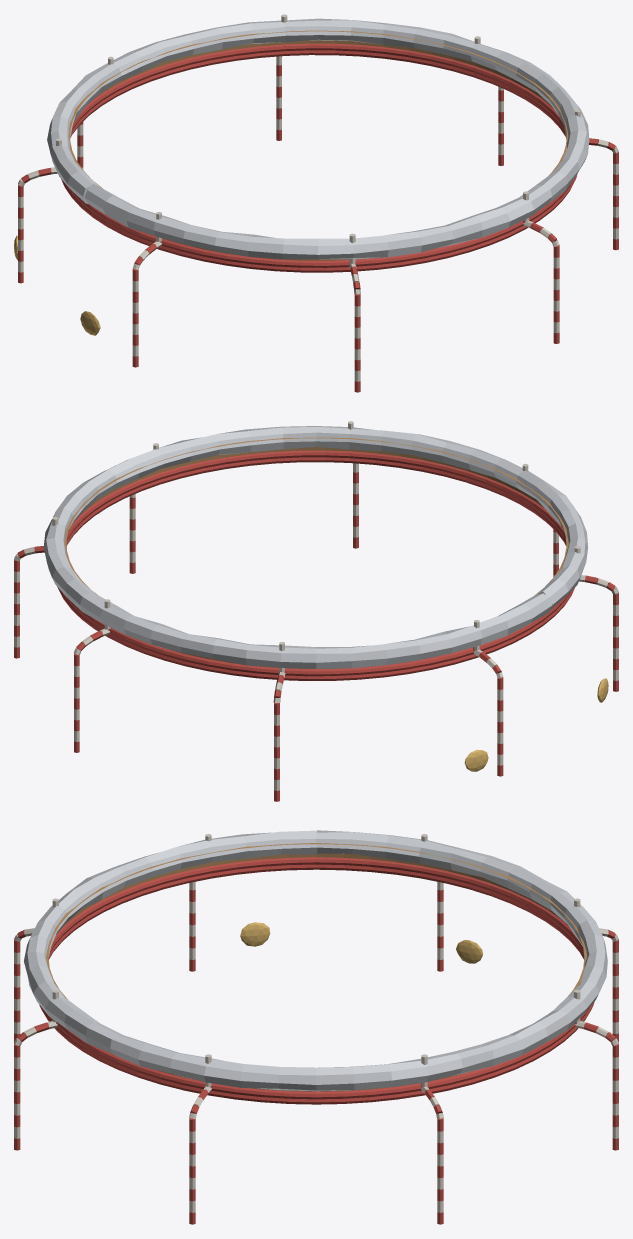
File: goo_jar_trim_1_mid@winter.fbx
3 renders of one model, top to bottom at view 1: azimuth 30°, elevation 25°; view 2: azimuth 150°, elevation 25°; view 3: azimuth 270°, elevation 25°, orthographic. The views are drawn at different scales.
Visible parts, largest first — view 1: goo_jar_trim_1_mid; view 2: goo_jar_trim_1_mid; view 3: goo_jar_trim_1_mid.
Boxes of the visible parts, x1,y1,x2,y2 form: goo_jar_trim_1_mid: (14, 14, 618, 392); goo_jar_trim_1_mid: (14, 421, 618, 801); goo_jar_trim_1_mid: (14, 830, 618, 1224).
Bounding box in the file's own units: 60.32 × 16.05 × 58.25.
